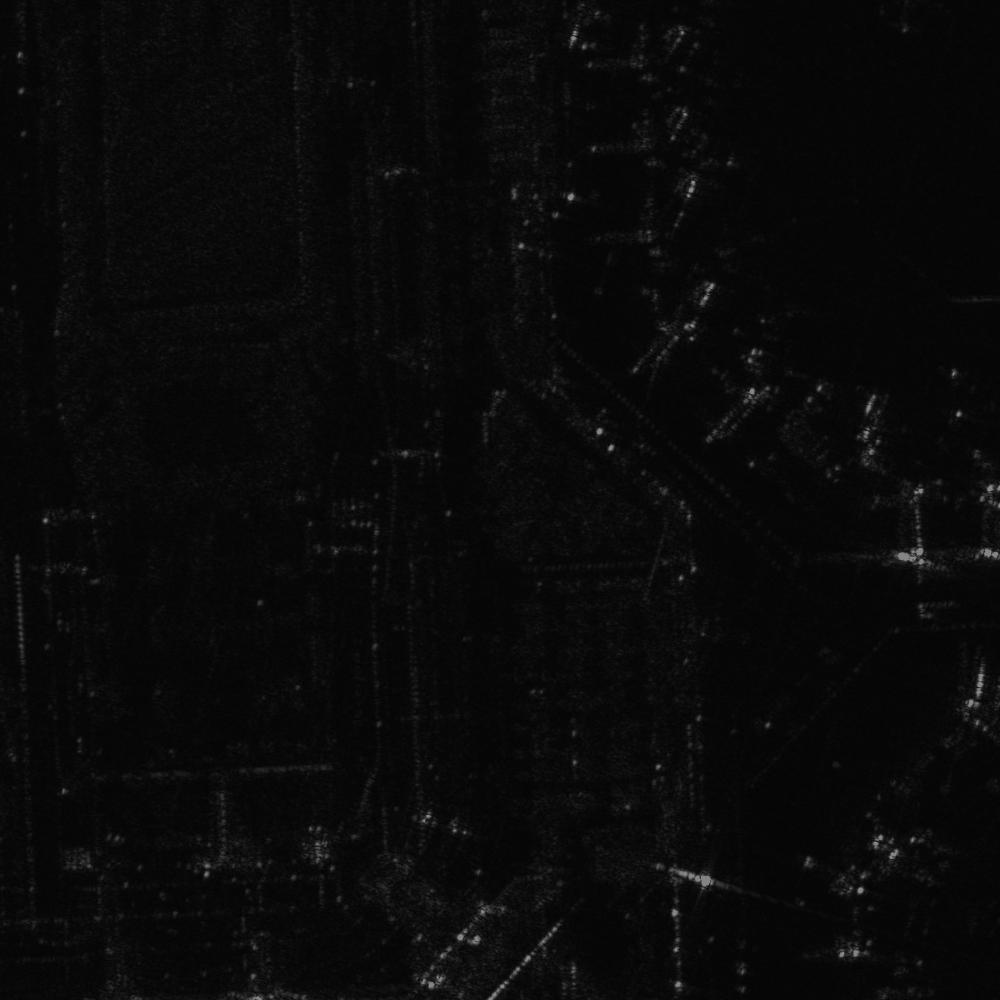A220: (934, 364, 999, 463)
